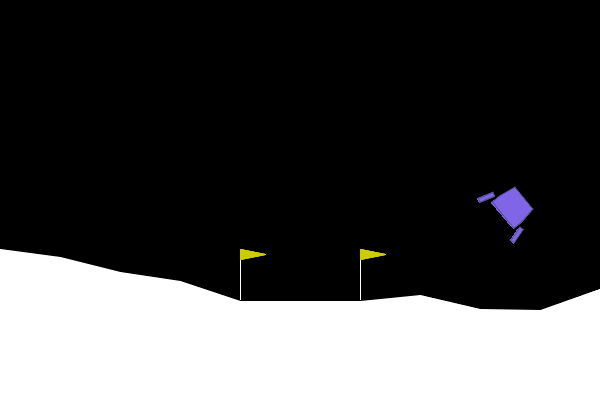lander: (475, 174, 544, 246)
